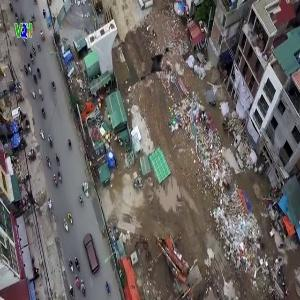drone: (131, 37, 187, 93)
